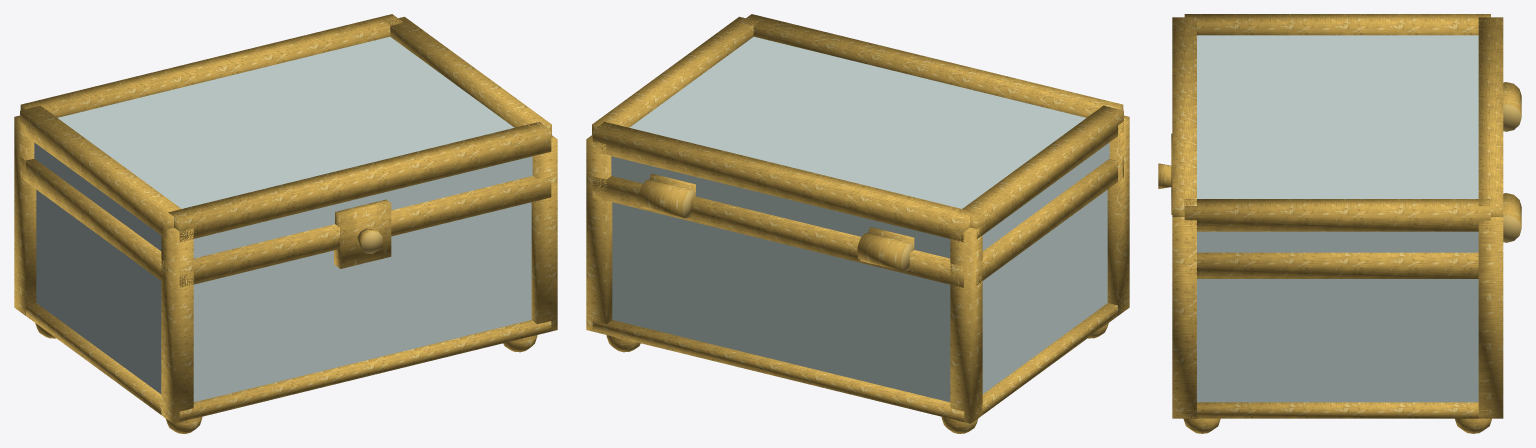
File: prop_box_glass.glb
The picture shows the model from 3 angles, left to right: view 1: azimuth 30°, elevation 25°; view 2: azimuth 150°, elevation 25°; view 3: azimuth 270°, elevation 25°; orthographic projection. The views are drawn at different scales.
Parts seen in each view (by area): view 1: prop_box_glass; view 2: prop_box_glass; view 3: prop_box_glass.
Boxes of the visible parts, <box> form: prop_box_glass: <box>14,14,557,433</box>; prop_box_glass: <box>586,14,1129,433</box>; prop_box_glass: <box>1158,14,1521,433</box>.
Size of the model in its own units: 0.1056 by 0.0593 by 0.083.
Materials: 2 (1 with a texture image).
